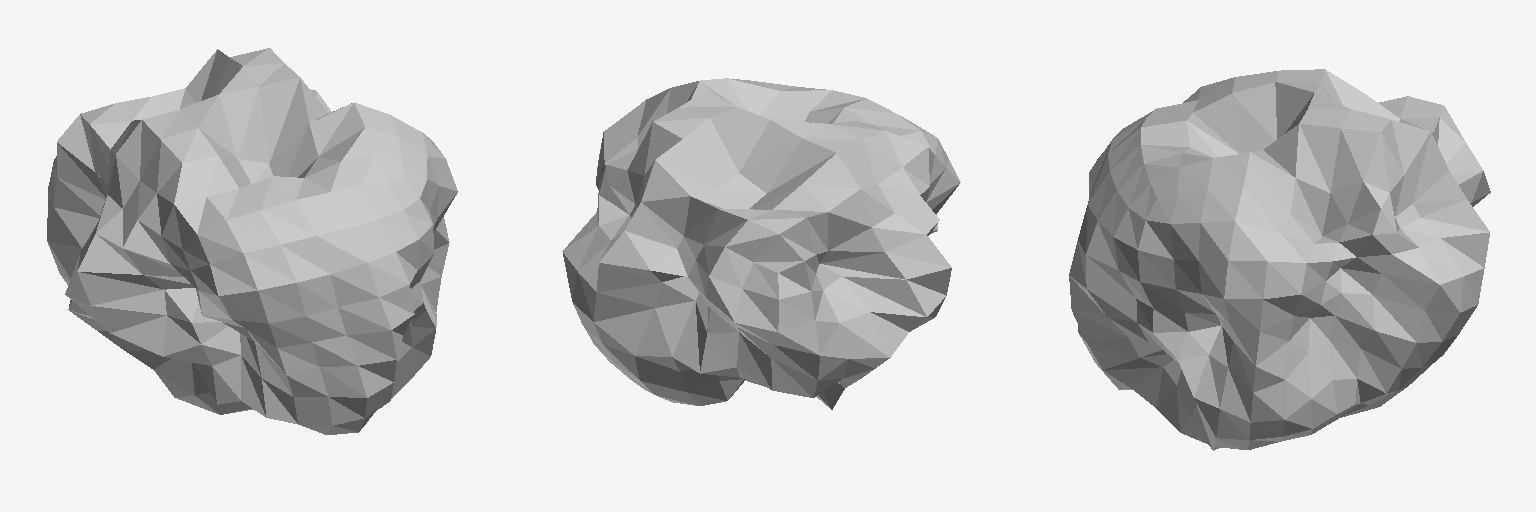
Rendered from rock3.obj.
3 renders of one model, left to right at view 1: azimuth 30°, elevation 25°; view 2: azimuth 150°, elevation 25°; view 3: azimuth 270°, elevation 25°, orthographic.
Visible parts, largest first — view 1: Cube; view 2: Cube; view 3: Cube.
Part boxes in pixels (x1,y1,x2,y2): Cube: (47,48,457,434); Cube: (562,78,960,409); Cube: (1069,69,1490,450).
Size of the model in its own units: 3.48 by 2.9 by 3.5.